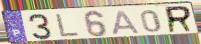0: (139, 9, 164, 33)
3: (27, 12, 53, 41)
6: (83, 9, 108, 38)
A: (111, 10, 142, 36)
L: (55, 13, 82, 38)
R: (165, 5, 195, 35)
